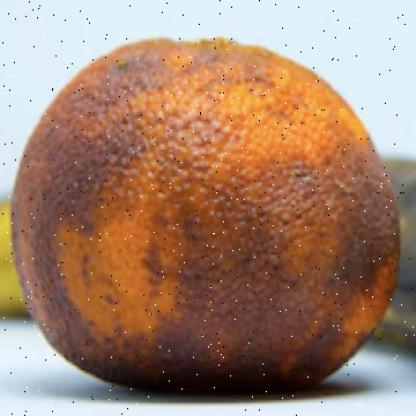rotten: (12, 42, 401, 402)
